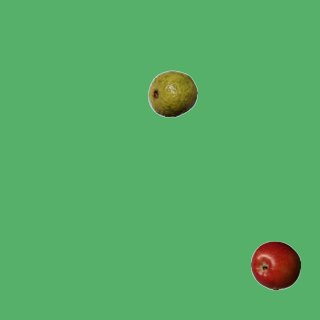Apple Braeburn: (250, 240, 300, 290)
Guava: (147, 68, 197, 118)
